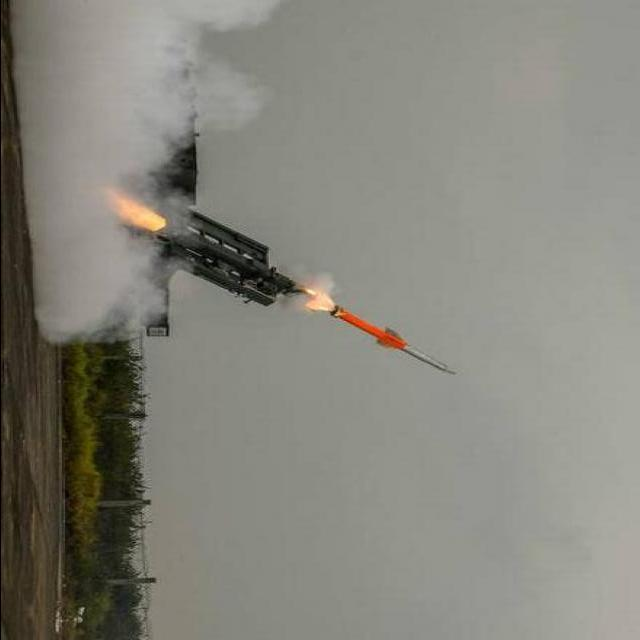Missile: (313, 297, 465, 375)
